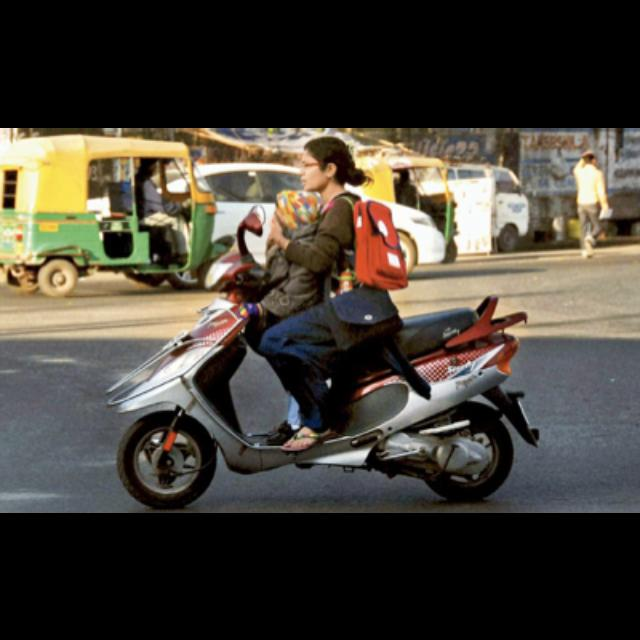Without Helmet: (294, 132, 360, 190)
